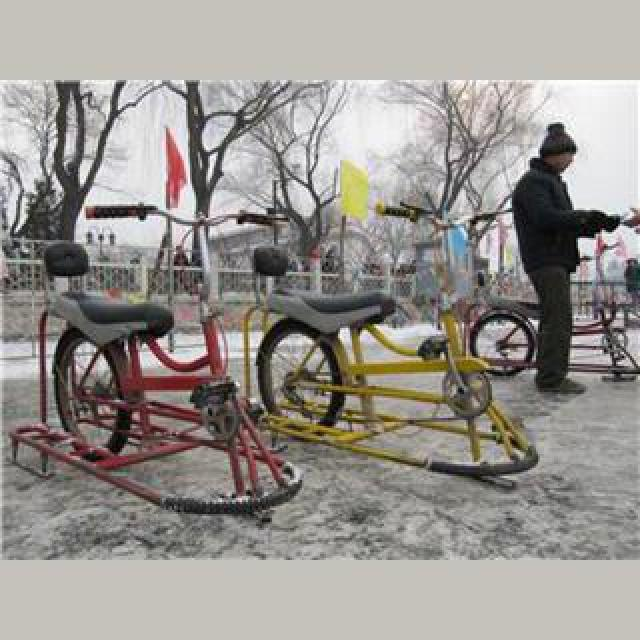MC-Bike: (513, 124, 629, 394)
Person: (36, 164, 306, 498), (250, 278, 526, 484), (474, 274, 640, 410)
